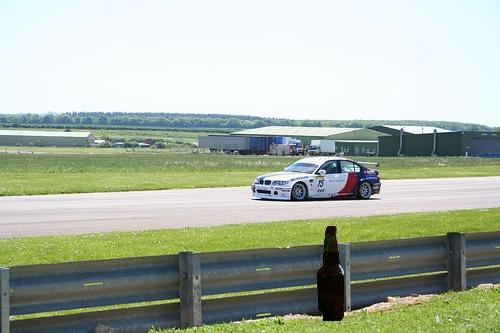tampered: (318, 227, 344, 321)
